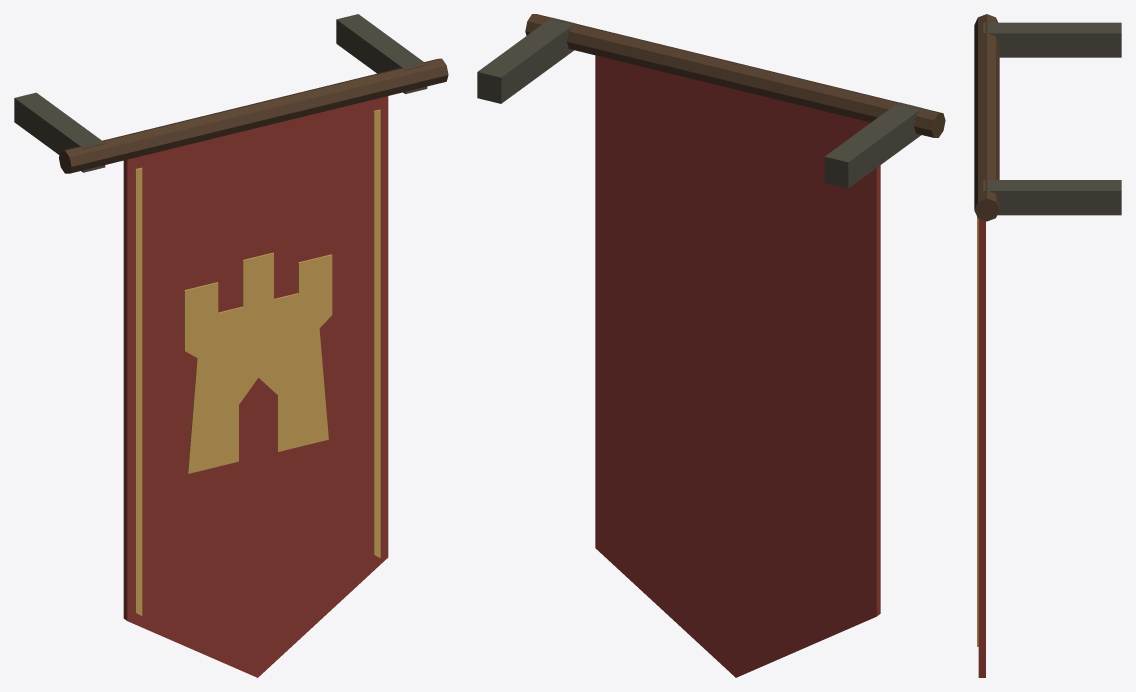
Rendered from castle_banner.glb.
3 renders of one model, left to right at view 1: azimuth 30°, elevation 25°; view 2: azimuth 150°, elevation 25°; view 3: azimuth 270°, elevation 25°, orthographic. The views are drawn at different scales.
Visible parts, largest first — view 1: Castle banner; view 2: Castle banner; view 3: Castle banner.
Part boxes in pixels (x1=…): Castle banner: x1=14, y1=14, x2=448, y2=677; Castle banner: x1=477, y1=14, x2=945, y2=677; Castle banner: x1=974, y1=14, x2=1121, y2=677.
Bounding box in the file's own units: 0.89 × 1.29 × 0.301.
